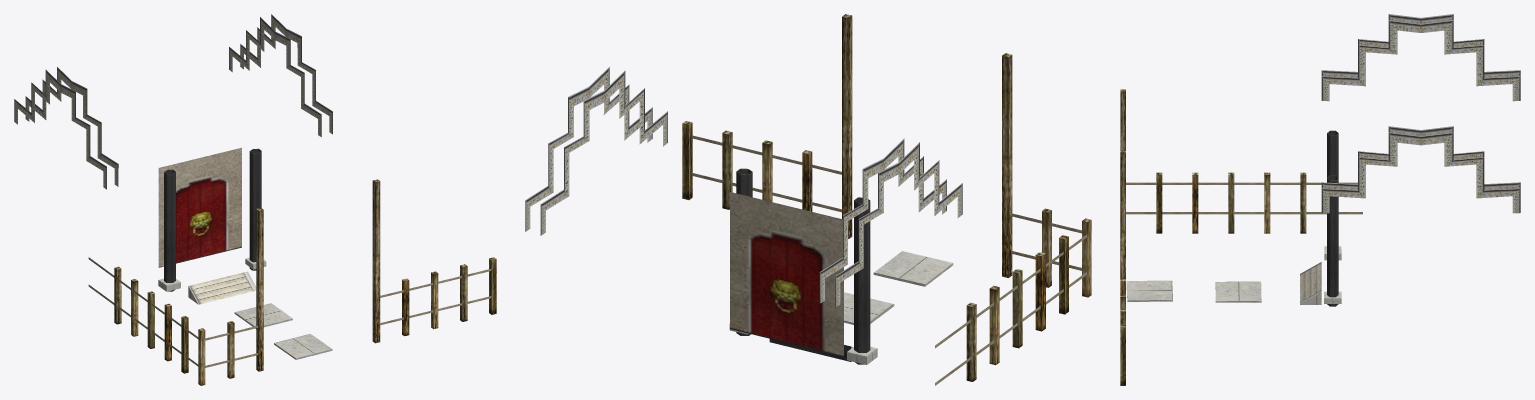
The model's file is chin_mc_props.dae.
The picture shows the model from 3 angles, left to right: view 1: azimuth 30°, elevation 25°; view 2: azimuth 150°, elevation 25°; view 3: azimuth 270°, elevation 25°; orthographic projection. The views are drawn at different scales.
Visible parts, largest first — view 1: barracks_PIVOT; view 2: barracks_PIVOT; view 3: barracks_PIVOT.
Part boxes in pixels (bbox=[...]): barracks_PIVOT: bbox=[14, 14, 496, 385]; barracks_PIVOT: bbox=[525, 14, 1091, 385]; barracks_PIVOT: bbox=[1120, 14, 1520, 385].
Size of the model in its own units: 15.84 by 17.32 by 10.39.
